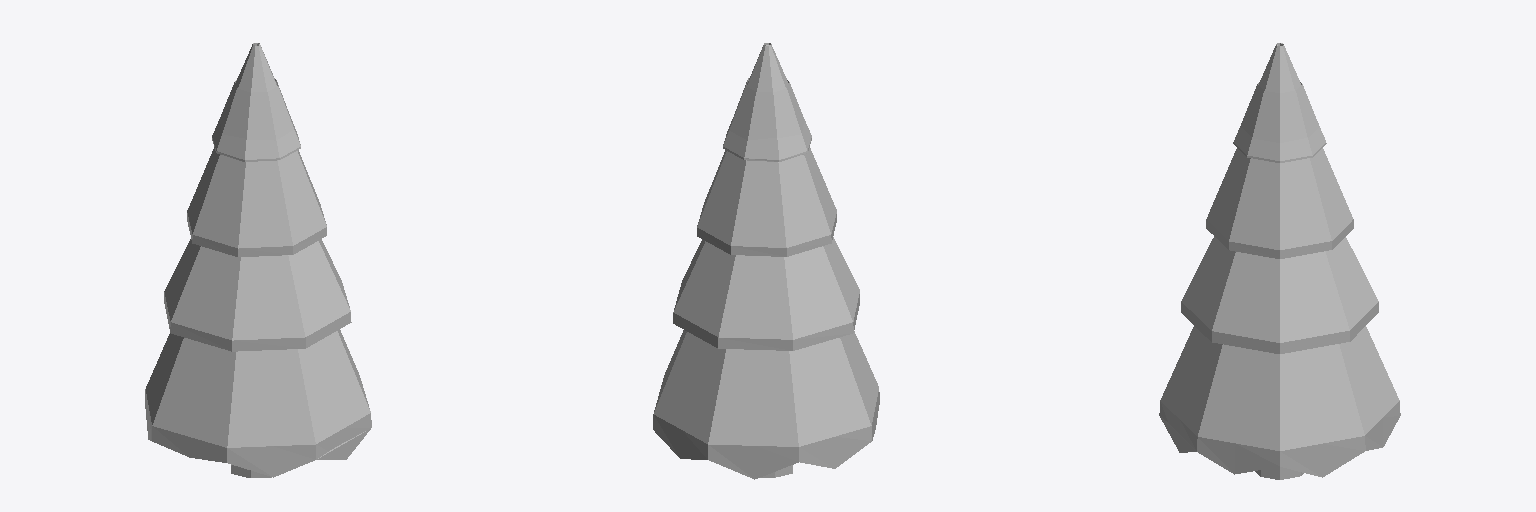
The model's file is pine.obj.
The picture shows the model from 3 angles: view 1: azimuth 30°, elevation 25°; view 2: azimuth 150°, elevation 25°; view 3: azimuth 270°, elevation 25°; orthographic projection.
Parts seen in each view (by area): view 1: Object_5; view 2: Object_5; view 3: Object_5.
Part boxes in pixels (left/top/right/bottom): Object_5: left=145, top=43, right=371, bottom=477; Object_5: left=653, top=43, right=879, bottom=479; Object_5: left=1159, top=43, right=1400, bottom=479.
Size of the model in its own units: 1.63 by 3.16 by 1.63.